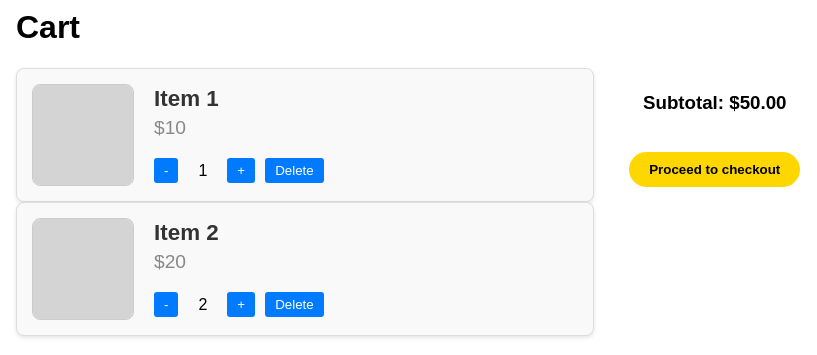
Scenario: CartComponent › decrements item quantity and removes item when quantity is 0
Click the button "-" below "10": [166, 171] box top-left (154, 158), bottom-right (178, 184)
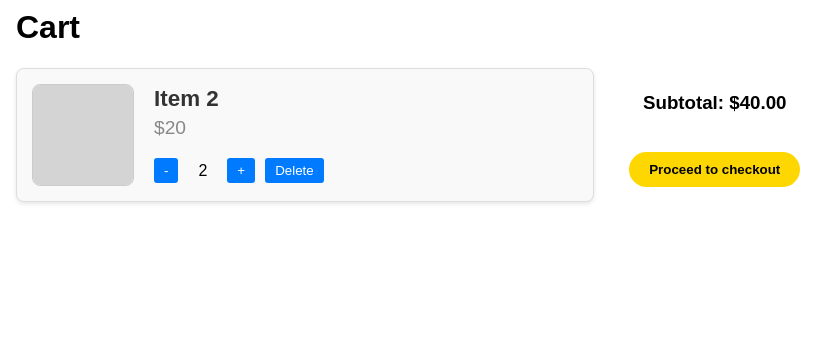
Expected: the heading "Subtotal: $40.00" is shown, top-left (643, 92), bottom-right (786, 114)
